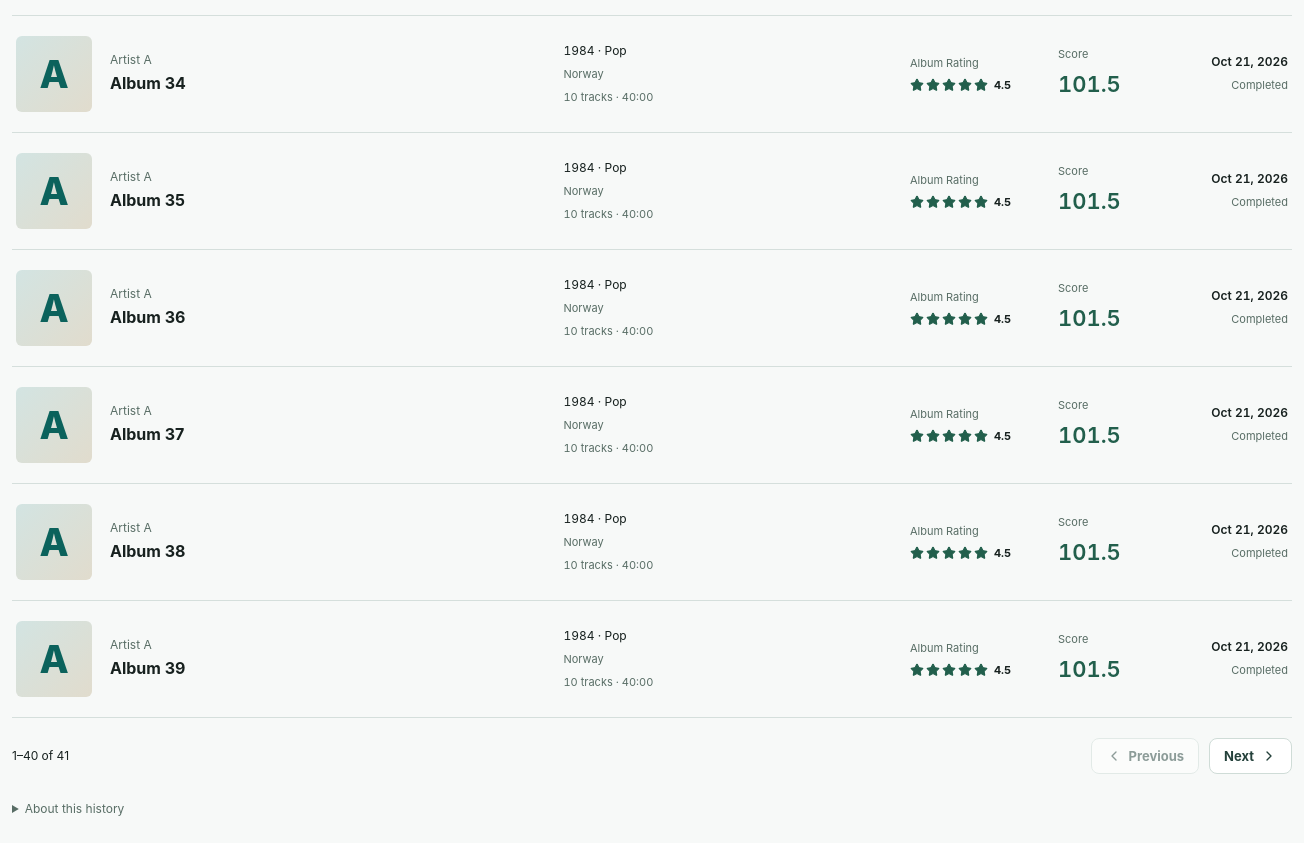
Test: paginates a large history and disables navigation for removed albums
(page scrolled)
Click the button with aria-label "Next history page". click: (1251, 756)
box: [1209,738,1292,774]
(page scrolled)
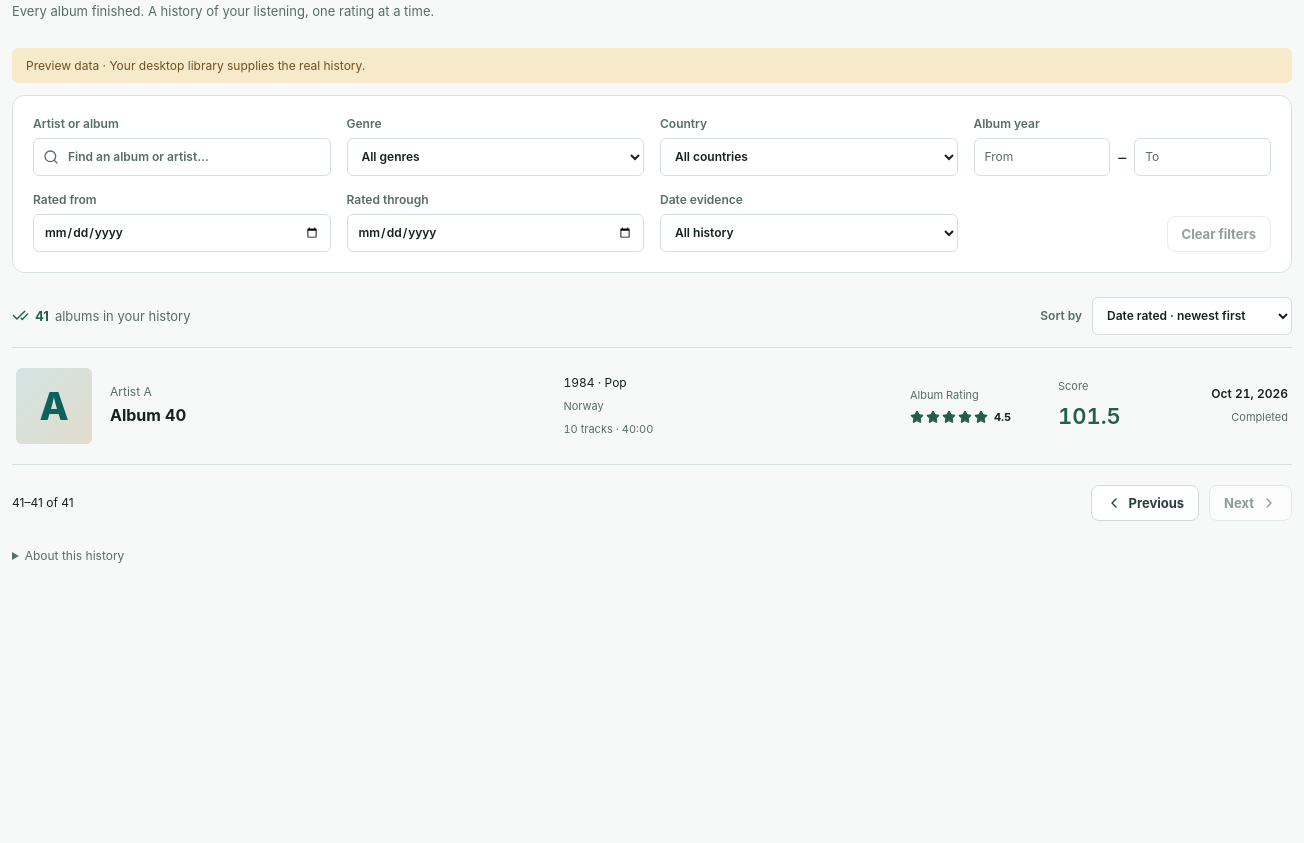
Now the number of list items is 1, box [12,348,1292,465]
Type "Album 0" into the search field. click: (182, 157)
box: [33,138,330,176]
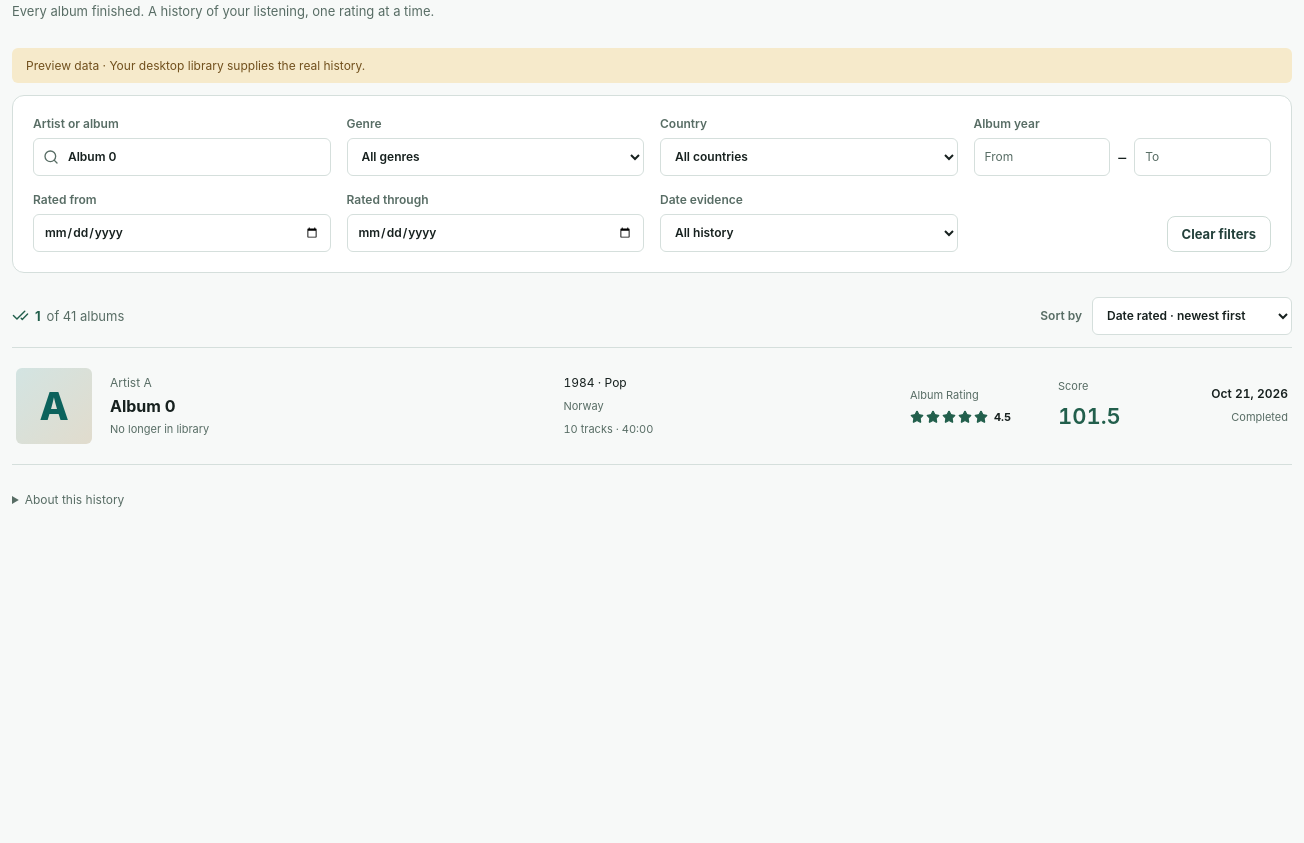
Now the text "Album 0" is shown, box [110,396,176,416]
